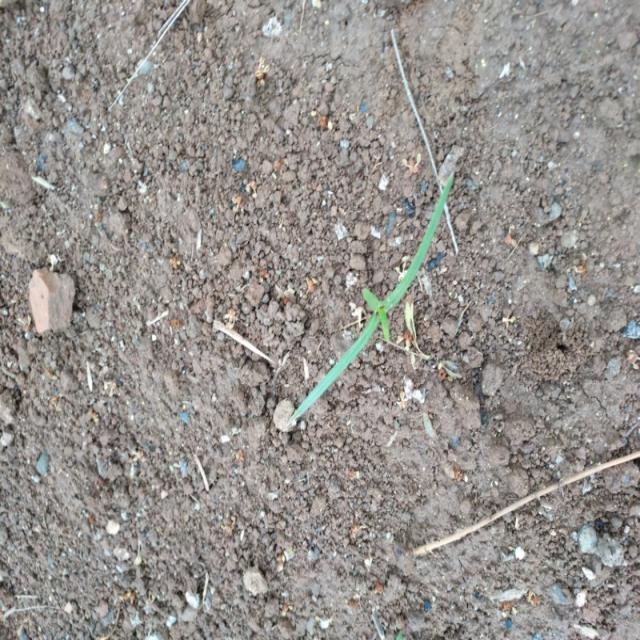sedge: (232, 151, 470, 446)
